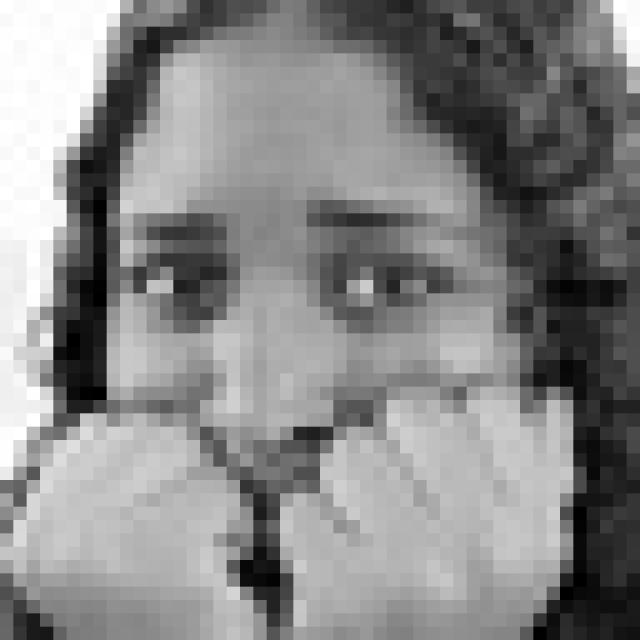fear: (120, 200, 489, 558)
